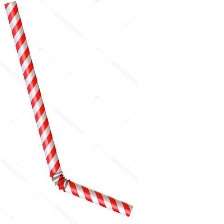drinking_straw: (0, 0, 137, 220)
